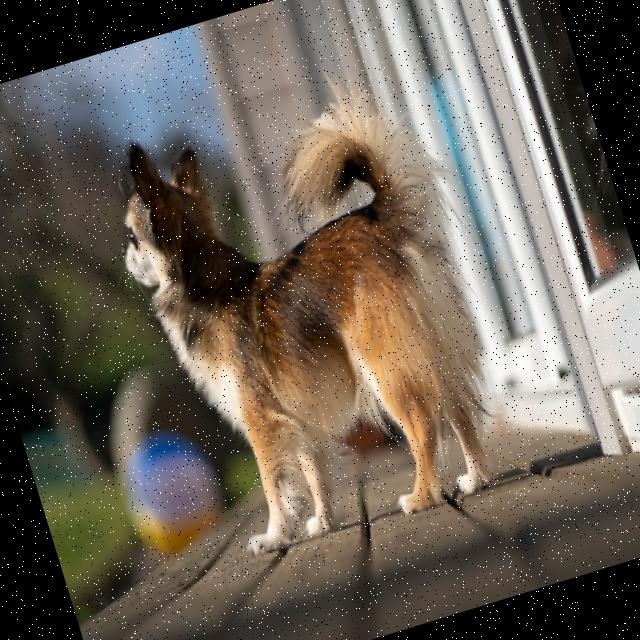Dog: (90, 49, 540, 568)
